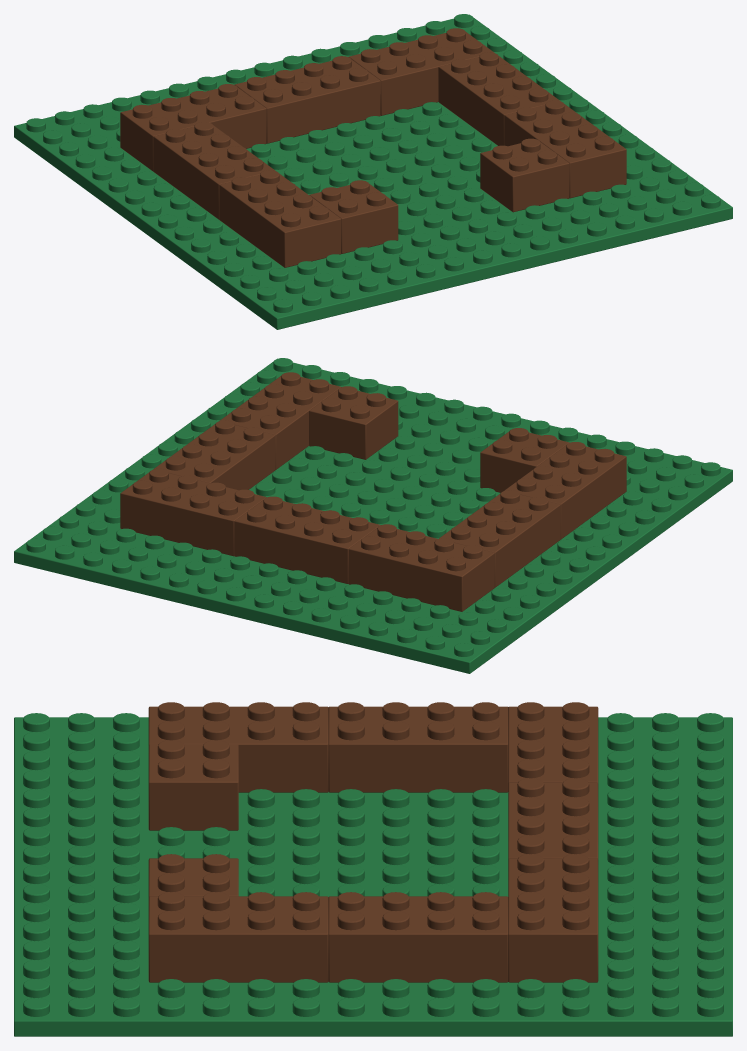
File: HouseEra1_0.fbx
The picture shows the model from 3 angles, top to bottom: view 1: azimuth 30°, elevation 25°; view 2: azimuth 150°, elevation 25°; view 3: azimuth 270°, elevation 25°; orthographic projection. The views are drawn at different scales.
Parts seen in each view (by area): view 1: 00001_91405.dat, 00006_3001.dat, 00002_3001.dat, 00003_3001.dat, 00007_3001.dat, 00005_3001.dat, 00008_3001.dat, 00004_3001.dat, 00010_3003.dat, 00009_3003.dat; view 2: 00001_91405.dat, 00003_3001.dat, 00002_3001.dat, 00004_3001.dat, 00006_3001.dat, 00005_3001.dat, 00008_3001.dat, 00010_3003.dat, 00007_3001.dat, 00009_3003.dat; view 3: 00001_91405.dat, 00005_3001.dat, 00007_3001.dat, 00008_3001.dat, 00006_3001.dat, 00004_3001.dat, 00009_3003.dat, 00002_3001.dat, 00003_3001.dat, 00010_3003.dat.
Boxes of the visible parts, box(x1,y1,x2,y2) form: 00001_91405.dat: box(14, 14, 732, 329); 00006_3001.dat: box(219, 170, 341, 267); 00002_3001.dat: box(234, 56, 380, 143); 00003_3001.dat: box(120, 84, 266, 171); 00007_3001.dat: box(504, 100, 626, 198); 00005_3001.dat: box(153, 122, 275, 219); 00008_3001.dat: box(438, 52, 560, 145); 00004_3001.dat: box(349, 28, 494, 115); 00010_3003.dat: box(480, 138, 569, 212); 00009_3003.dat: box(309, 180, 398, 253); 00001_91405.dat: box(14, 358, 732, 673); 00003_3001.dat: box(348, 524, 494, 611); 00002_3001.dat: box(234, 496, 380, 583); 00004_3001.dat: box(120, 468, 266, 556); 00006_3001.dat: box(505, 442, 626, 539); 00005_3001.dat: box(439, 490, 560, 587); 00008_3001.dat: box(154, 420, 275, 490); 00010_3003.dat: box(309, 386, 398, 459); 00007_3001.dat: box(219, 372, 340, 469); 00009_3003.dat: box(480, 428, 569, 492); 00001_91405.dat: box(14, 713, 732, 1036); 00005_3001.dat: box(328, 702, 508, 792); 00007_3001.dat: box(148, 892, 328, 982); 00008_3001.dat: box(328, 892, 508, 982); 00006_3001.dat: box(148, 702, 328, 792); 00004_3001.dat: box(508, 854, 598, 982); 00009_3003.dat: box(148, 740, 238, 830); 00002_3001.dat: box(508, 778, 598, 859); 00003_3001.dat: box(508, 702, 598, 783); 00010_3003.dat: box(148, 854, 238, 896).
Size of the model in its own units: 1280 by 1280 by 144.
